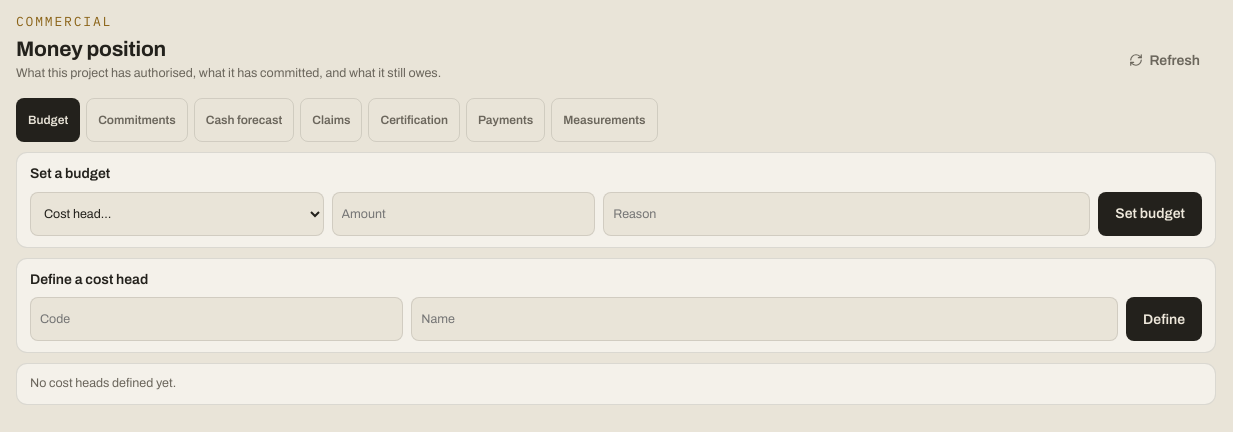
Test case: Task 7B-ii (§M) — the rendered claim tabs never dereference an absent claim › S4: equal timestamps with DIFFERING status are ambiguous, never a tie broken toward the claim
Step 1. Click the button with test id "commercial-tab-claims" → (331, 120), box [300,98,362,142]
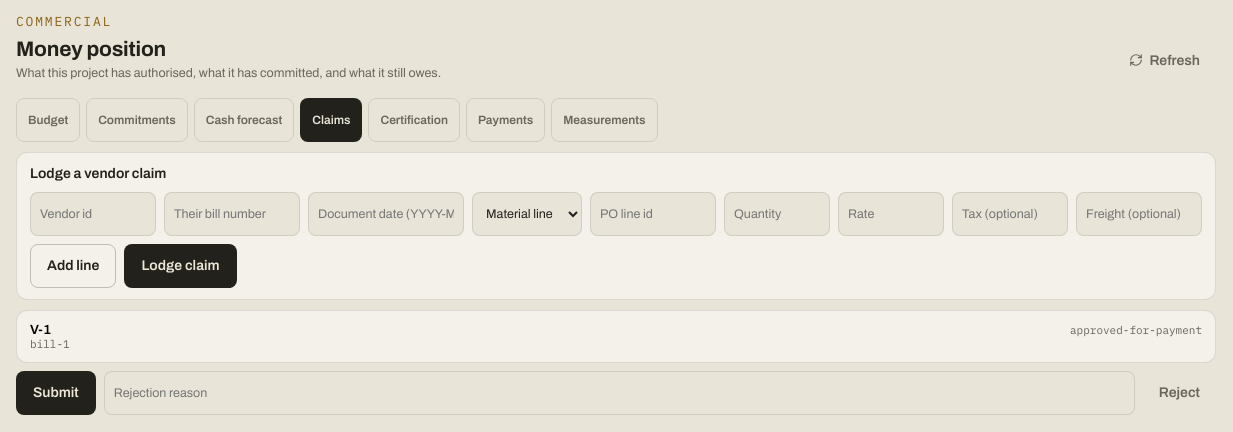
Step 2. Click the button with test id "commercial-claim-row-bill-1" → (1136, 330), box [16,310,1216,363]
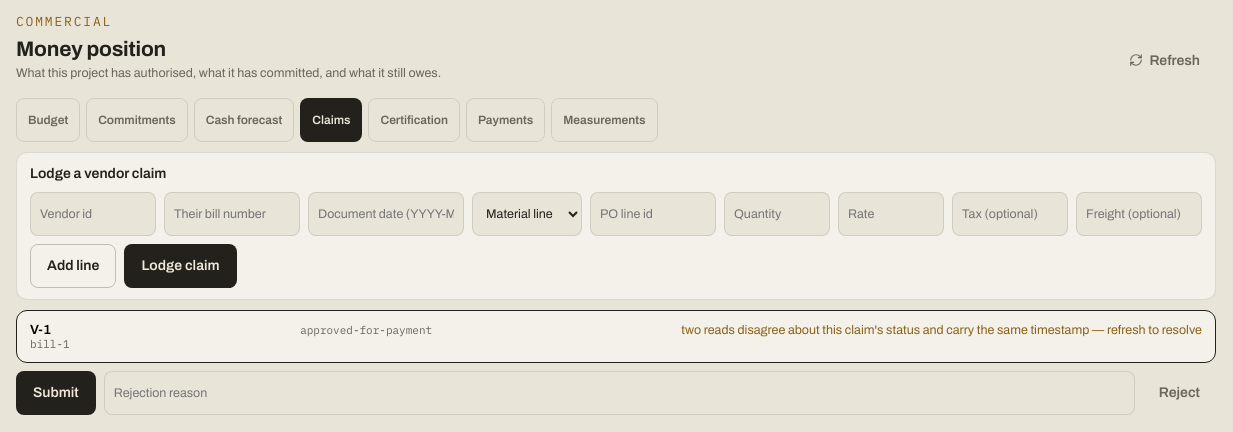
expect the button with test id "bill-reject-bill-1" is disabled: met, box [1143,371,1216,415]
expect the text with test id "commercial-claim-ambiguous-bill-1" is shown: met, box [681,323,1202,337]
